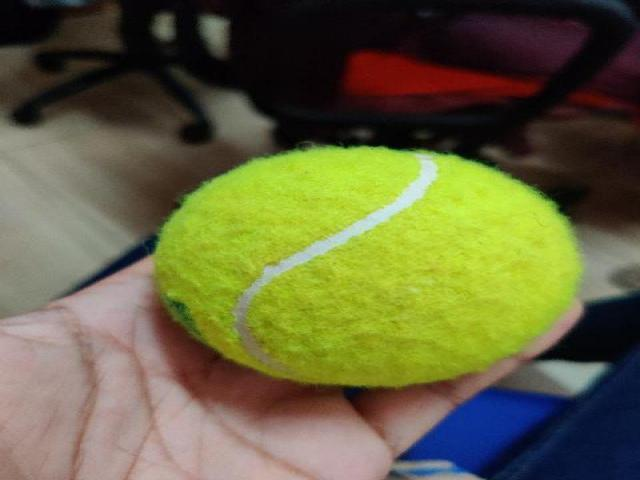tennis-ball: (157, 148, 577, 386)
